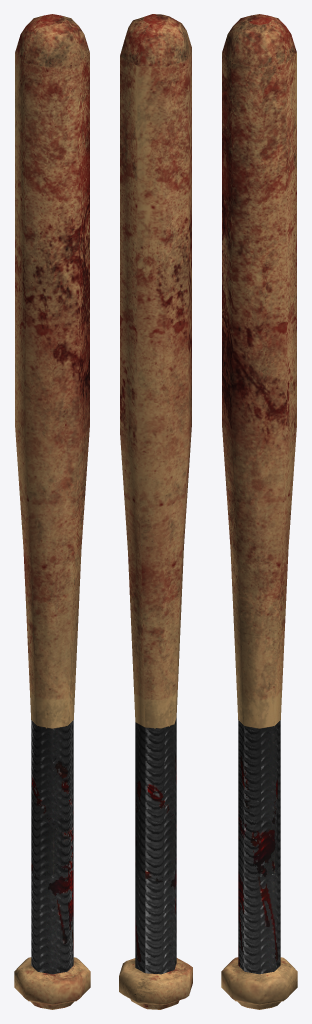
Rendered from BaseballBat_Raw_Wood(Blood).fbx.
3 renders of one model, left to right at view 1: azimuth 90°, elevation 25°; view 2: azimuth 150°, elevation 25°; view 3: azimuth 270°, elevation 25°, orthographic.
Parts seen in each view (by area): view 1: BaseballBat_Raw_Wood(Blood); view 2: BaseballBat_Raw_Wood(Blood); view 3: BaseballBat_Raw_Wood(Blood).
Boxes of the visible parts, <box> form: BaseballBat_Raw_Wood(Blood): <box>14,14,90,1009</box>; BaseballBat_Raw_Wood(Blood): <box>119,14,192,1009</box>; BaseballBat_Raw_Wood(Blood): <box>221,14,297,1009</box>.
Size of the model in its own units: 5.92 by 84.03 by 5.92.
